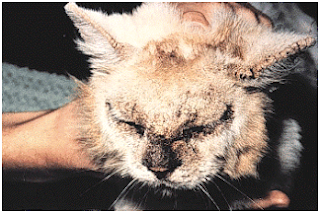kudis: (226, 32, 317, 85)
